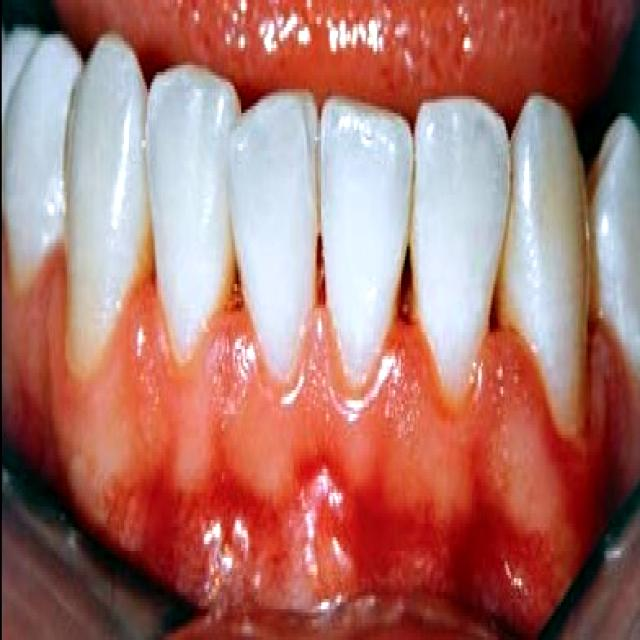gingivitis: (8, 253, 593, 602)
